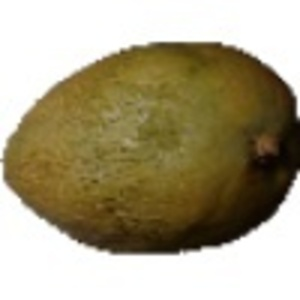mamão: (1, 35, 295, 259)
